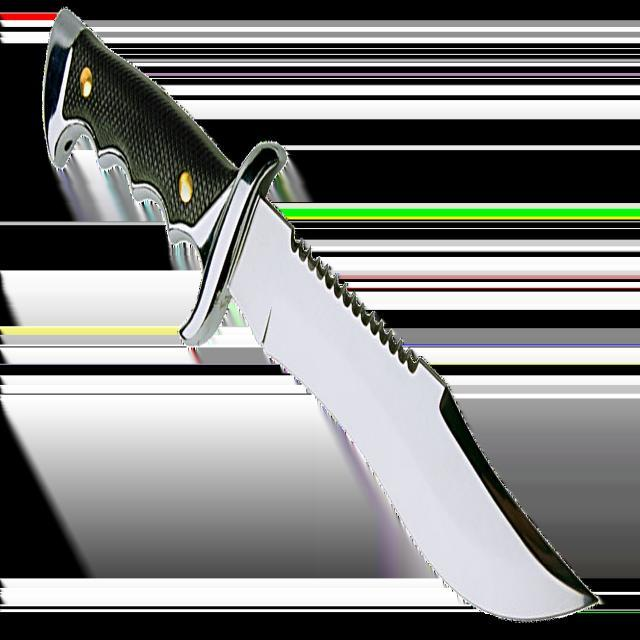Knife: (44, 11, 590, 619)
